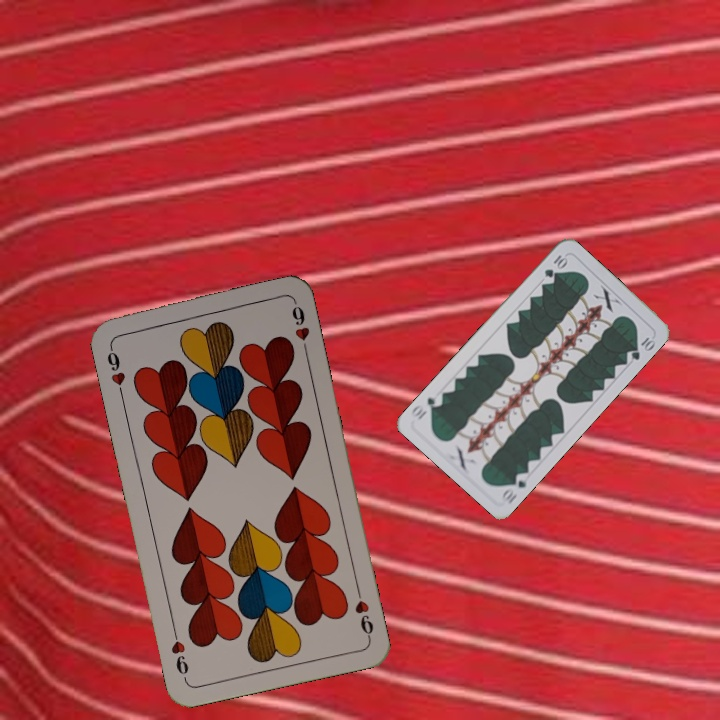G10: (497, 468, 529, 506), (540, 251, 570, 280)
H9: (350, 583, 376, 641), (103, 340, 128, 399)
